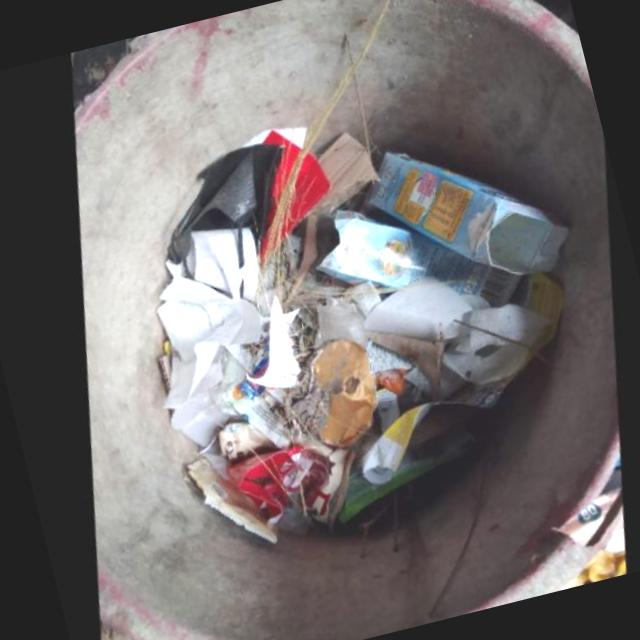bao_bi_thuc_pham: (178, 425, 352, 546)
carton: (252, 134, 325, 266), (298, 135, 371, 221)
giay: (359, 281, 550, 388), (147, 280, 255, 449), (158, 231, 253, 305), (239, 298, 296, 390)
khau_trang: (160, 148, 276, 267)
vo_hop_sua: (362, 154, 565, 277), (312, 209, 512, 310)
